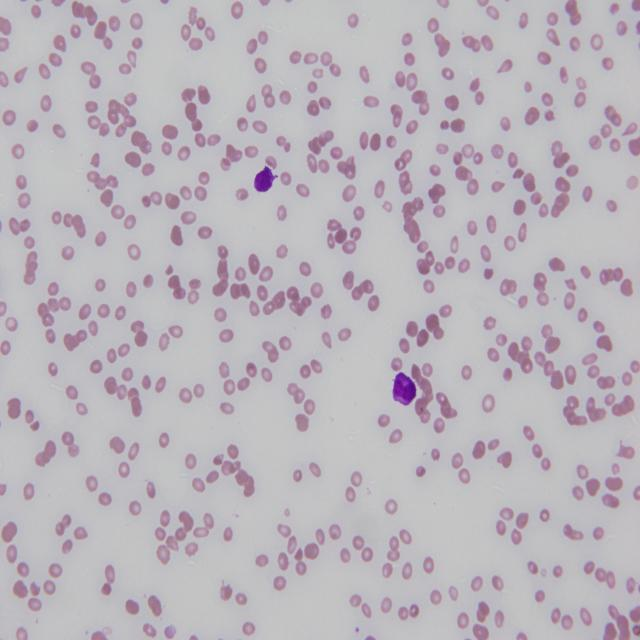cell: (392, 373, 416, 405), (254, 166, 278, 191)
